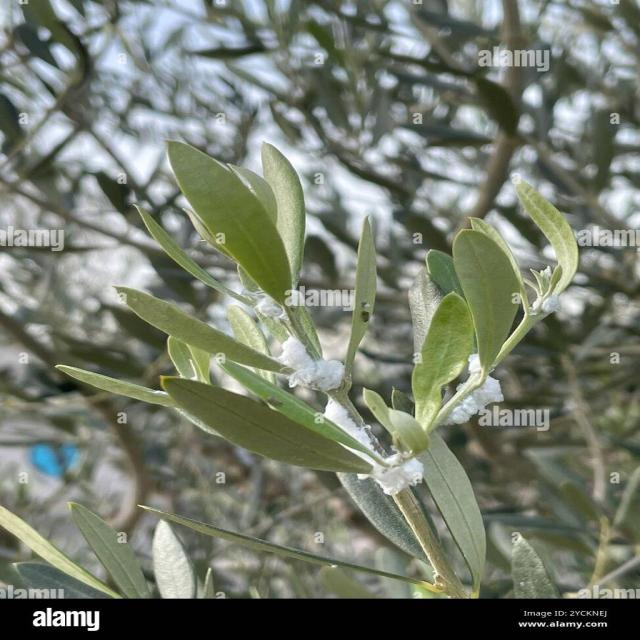Healthy: (162, 378, 371, 474)
Psyllid: (276, 336, 348, 392), (351, 450, 424, 495), (439, 375, 503, 426), (325, 399, 369, 444), (240, 288, 289, 323), (529, 293, 559, 316), (468, 353, 482, 379)
